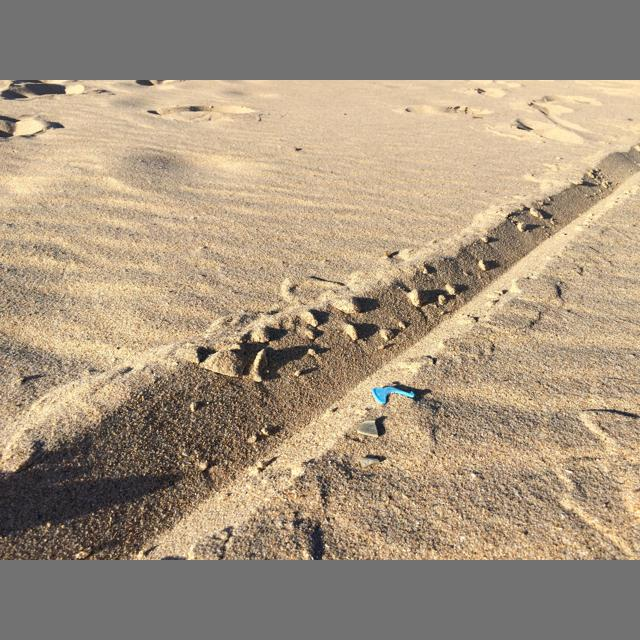litter: (372, 386, 414, 405)
